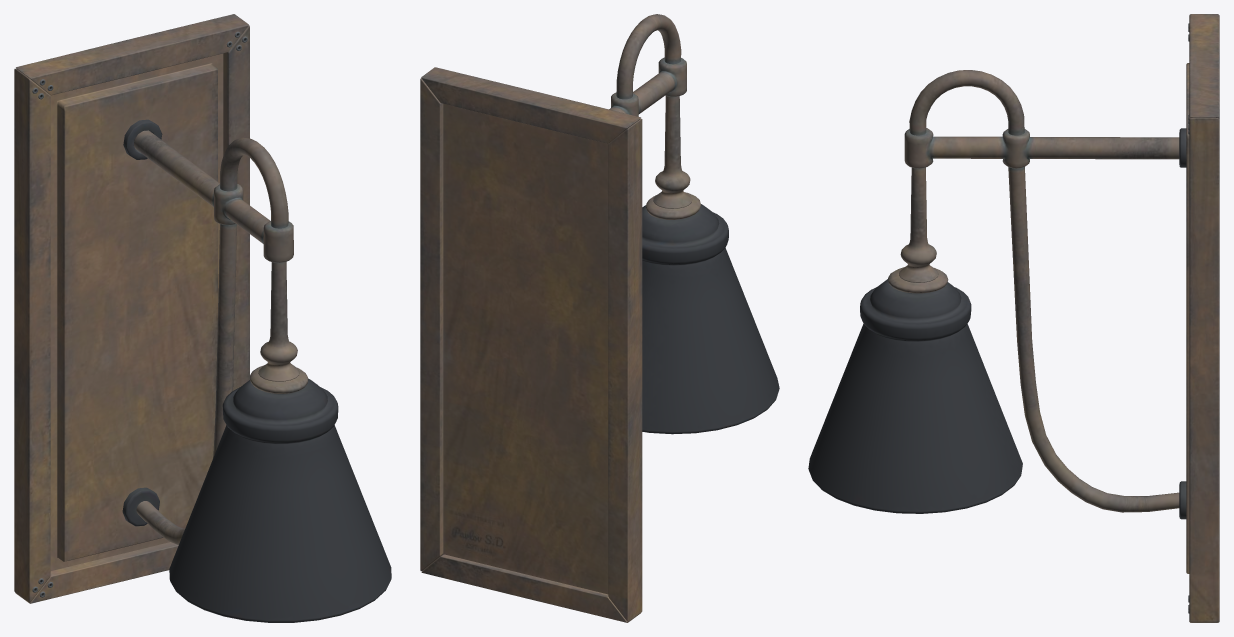
The model's file is ph_industrial_wall_sconce.glb.
3 views of the same model, side by side, from view 1: azimuth 30°, elevation 25°; view 2: azimuth 150°, elevation 25°; view 3: azimuth 270°, elevation 25° (orthographic). The views are drawn at different scales.
Parts seen in each view (by area): view 1: industrial_wall_sconce; view 2: industrial_wall_sconce; view 3: industrial_wall_sconce.
Boxes of the visible parts, <box> form: industrial_wall_sconce: <box>14,14,391,622</box>; industrial_wall_sconce: <box>420,14,779,622</box>; industrial_wall_sconce: <box>808,14,1219,622</box>.
Bounding box in the file's own units: 0.1503 × 0.3418 × 0.2516.
Materials: 2 (2 with a texture image).
